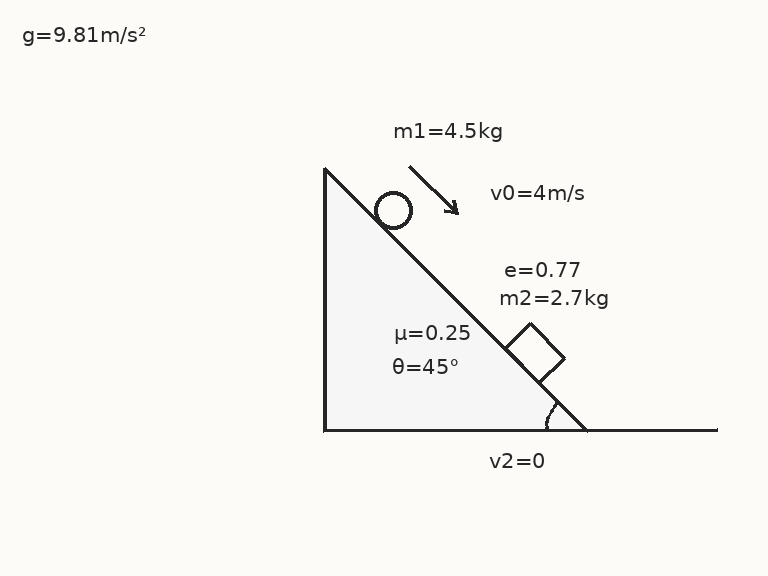ball: (372, 189, 414, 231)
block: (502, 321, 566, 385)
ramp: (322, 166, 588, 432)
